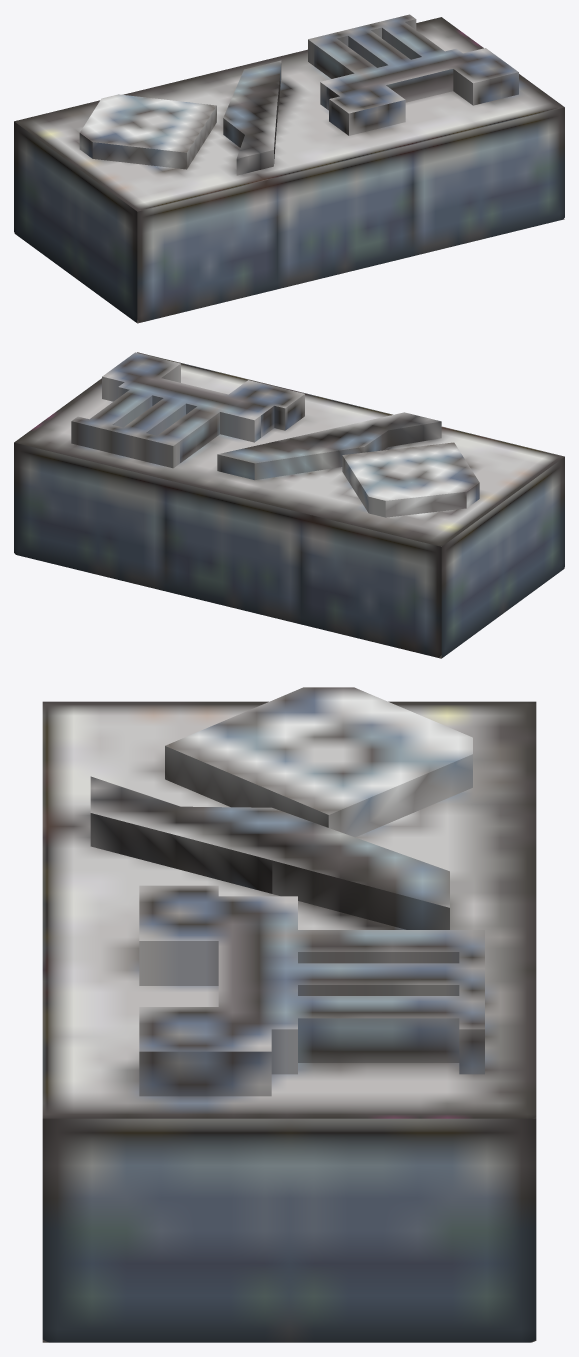
Rendered from Poly_SF_Outside_B_Stall_Goods_05.obj.
The picture shows the model from 3 angles, top to bottom: view 1: azimuth 30°, elevation 25°; view 2: azimuth 150°, elevation 25°; view 3: azimuth 270°, elevation 25°; orthographic projection. The views are drawn at different scales.
Visible parts, largest first — view 1: Cube.001, Cube.003, Cube.002; view 2: Cube.001, Cube.002, Cube.003; view 3: Cube.001, Cube.002, Cube.003.
Boxes of the visible parts, x1,y1,x2,y2 form: Cube.001: [14, 17, 564, 323]; Cube.003: [308, 14, 518, 135]; Cube.002: [79, 60, 281, 175]; Cube.001: [14, 352, 564, 658]; Cube.002: [217, 412, 479, 517]; Cube.003: [71, 352, 304, 468]; Cube.001: [42, 701, 536, 1342]; Cube.002: [90, 687, 472, 929]; Cube.003: [139, 885, 484, 1096].
Bounding box in the file's own units: 0.8 × 0.2409 × 0.4.
1 material, 1 textured.
